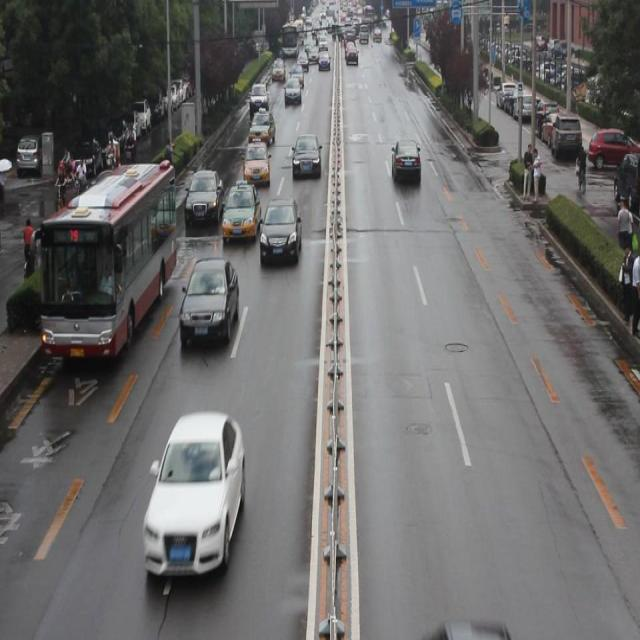car: (141, 409, 246, 579), (178, 258, 239, 346), (220, 177, 262, 244), (261, 198, 301, 268), (91, 171, 152, 215), (183, 167, 224, 226), (292, 133, 321, 180), (242, 139, 270, 186), (391, 140, 420, 184), (250, 108, 276, 147), (248, 82, 269, 115)
van: (30, 159, 177, 359)
